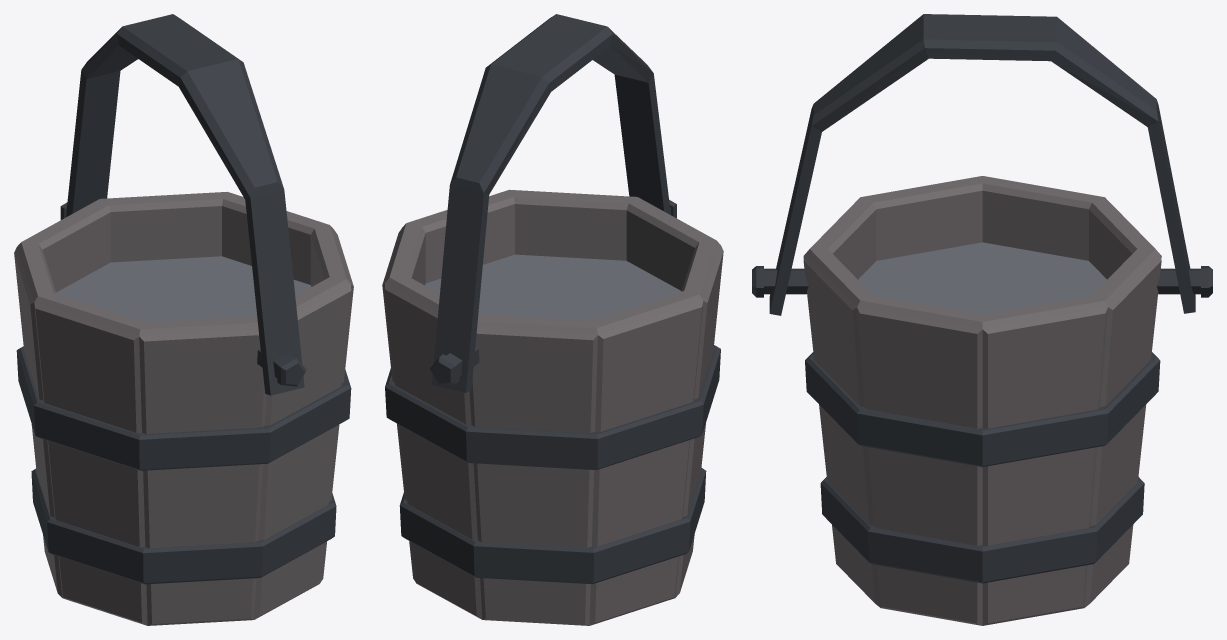
File: bucket_a.gltf
The picture shows the model from 3 angles, left to right: view 1: azimuth 30°, elevation 25°; view 2: azimuth 150°, elevation 25°; view 3: azimuth 270°, elevation 25°; orthographic projection. The views are drawn at different scales.
Parts seen in each view (by area): view 1: bucket_a001; view 2: bucket_a001; view 3: bucket_a001.
Boxes of the visible parts, x1=… form: bucket_a001: x1=14, y1=14, x2=353, y2=625; bucket_a001: x1=382, y1=14, x2=723, y2=625; bucket_a001: x1=752, y1=14, x2=1212, y2=625.
Bounding box in the file's own units: 0.2707 × 0.4489 × 0.3482.
Materials: 1 (1 with a texture image).
